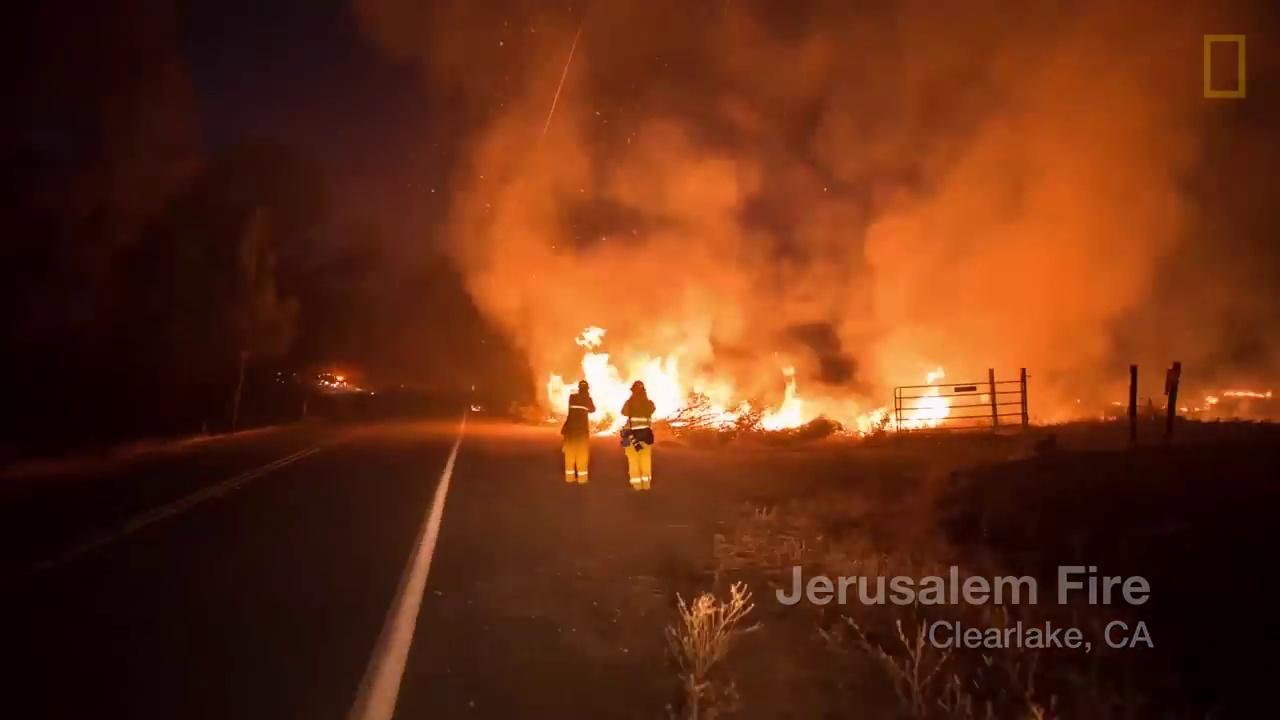Fire: (555, 333, 807, 436), (859, 369, 957, 434), (1186, 388, 1273, 411), (315, 371, 350, 393)
